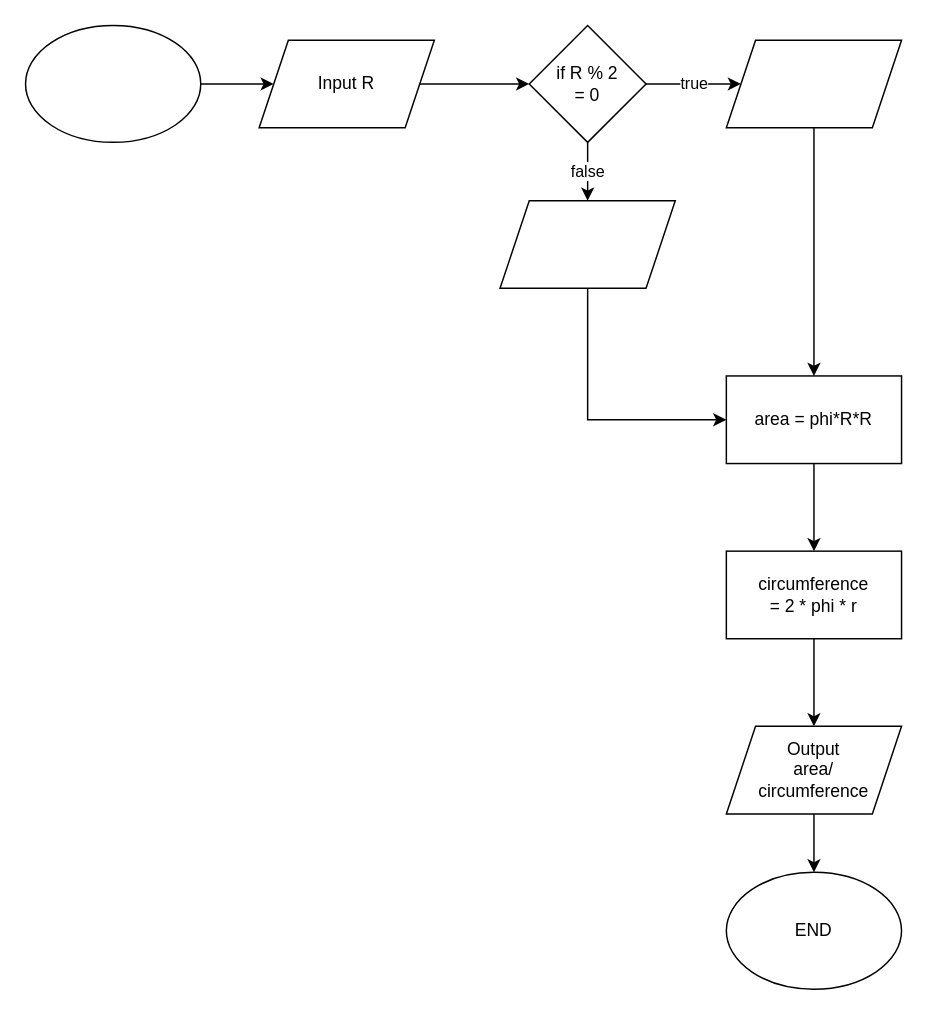
This 927x1015 diagram has some shape labels left out. The box of each missing label's shape, as (x1, y1, x2, y2) in pixels:
phi = 22/7: (499, 199, 675, 288)
phi = 3.14: (725, 39, 902, 128)
START: (24, 24, 201, 142)
